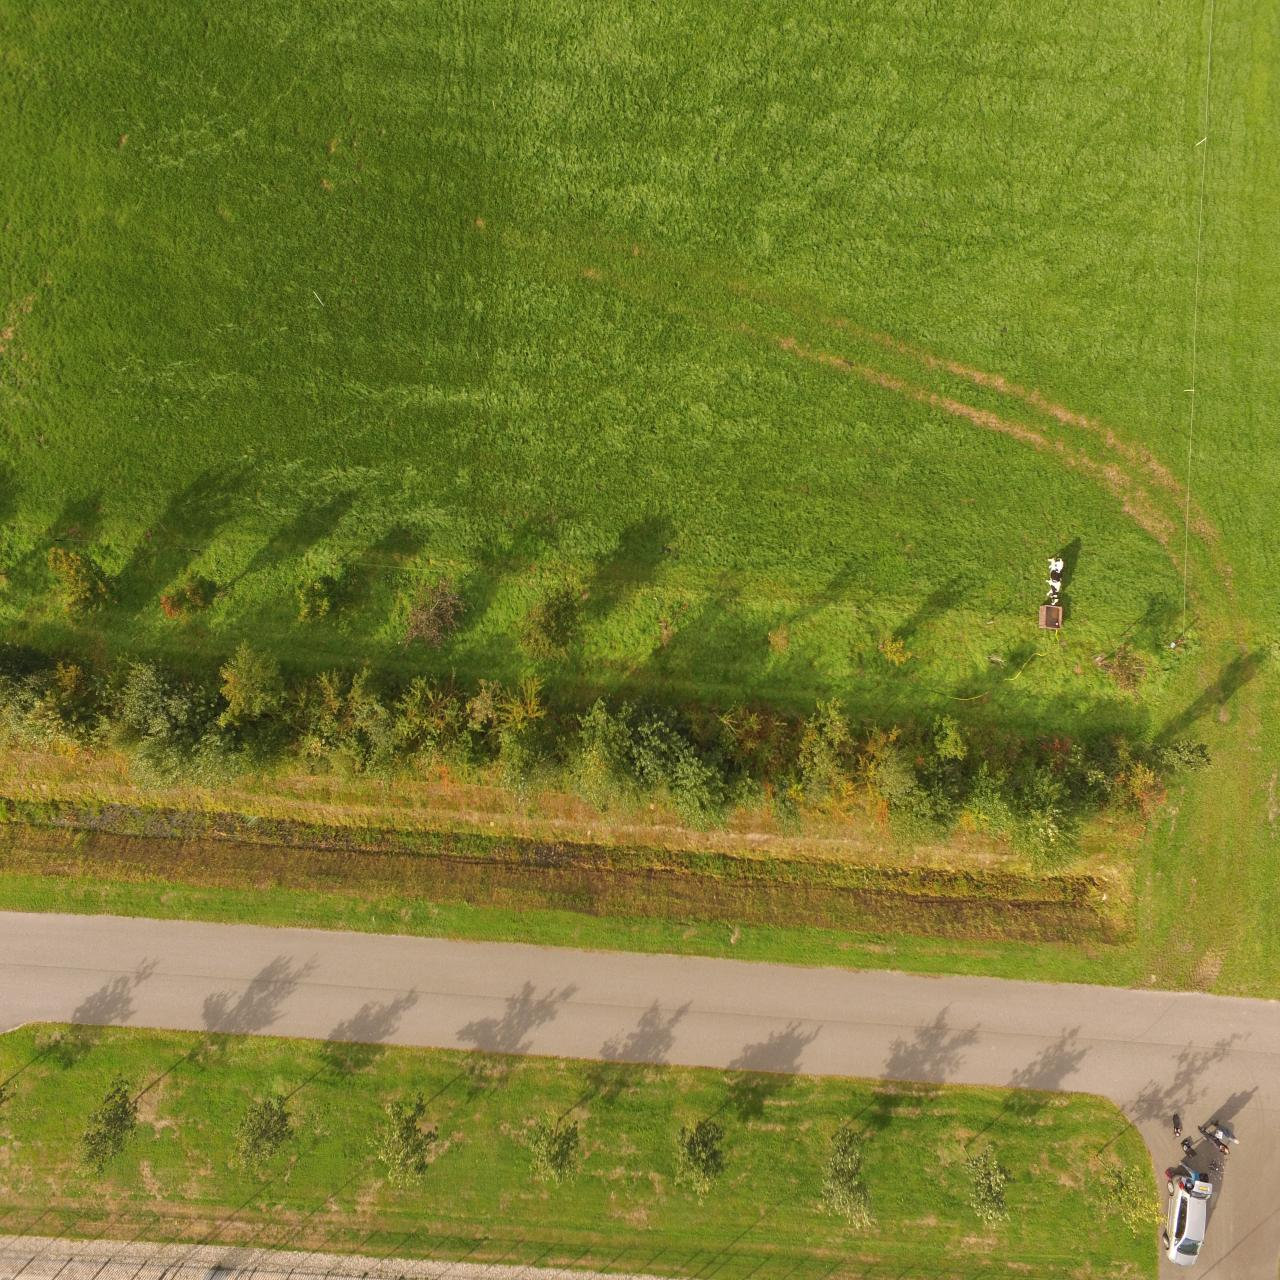cow: (1046, 554, 1065, 606)
